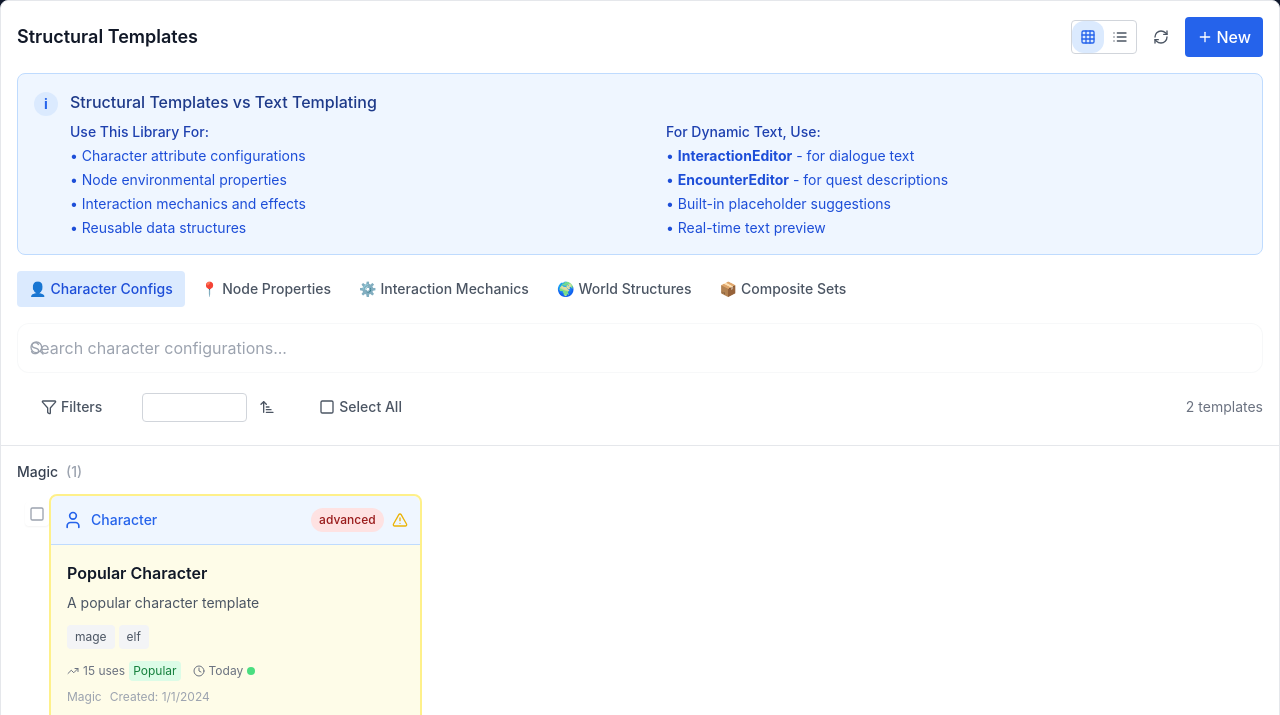
Test case: TemplateLibraryPanel › shows filter controls when filters button is clicked
Step 1. Click the button "Filters" → [72, 407], box [17,385,126,429]
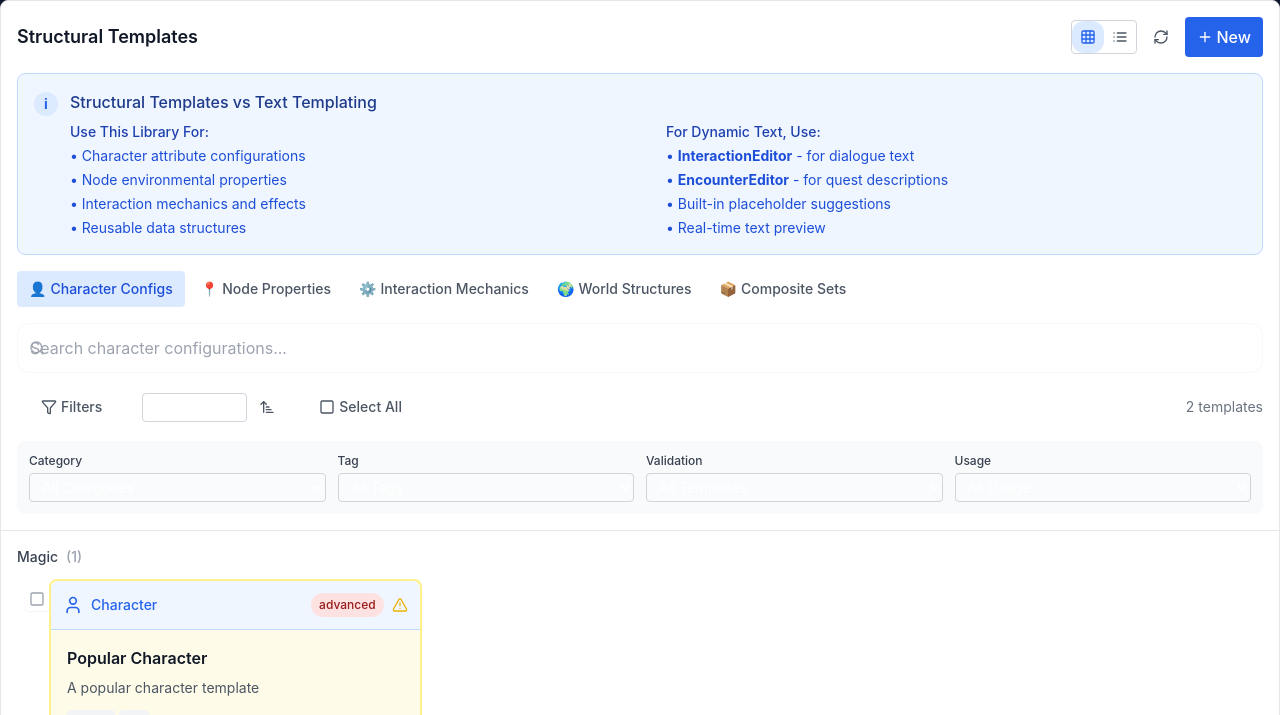
Expected: the text "Category" is shown, [29,453,82,468]
Expected: the text "Tag" is shown, [338,453,359,468]
Expected: the text "Validation" is shown, [646,453,702,468]
